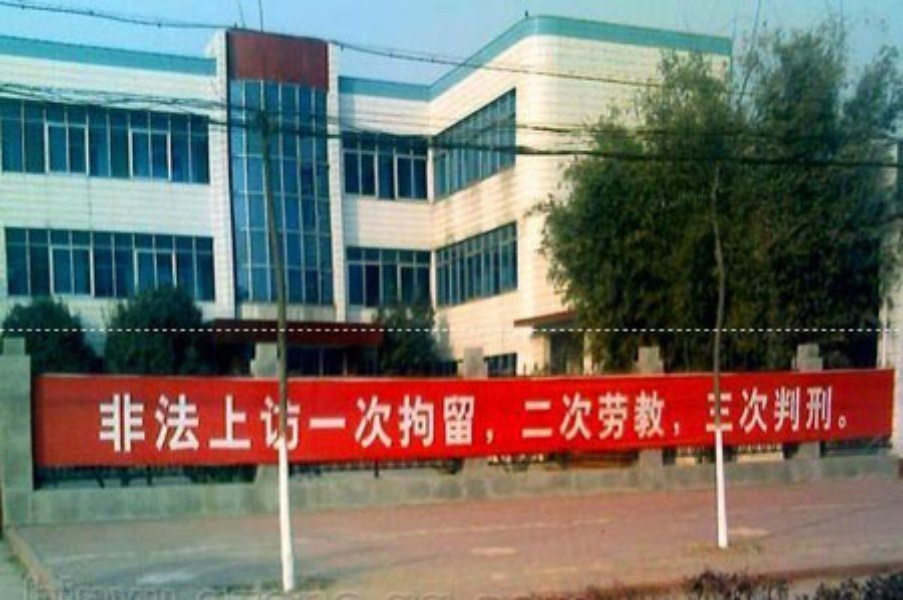text: (113, 386, 128, 458), (129, 386, 144, 458), (145, 386, 160, 458), (161, 386, 176, 458), (177, 386, 192, 458), (193, 386, 208, 458), (209, 386, 224, 458), (225, 386, 240, 458), (241, 386, 256, 458), (257, 386, 272, 458), (273, 386, 288, 458), (289, 386, 304, 458), (305, 386, 320, 458), (321, 386, 336, 458), (337, 386, 352, 458), (353, 386, 368, 458), (369, 386, 384, 458), (385, 386, 400, 458), (401, 386, 416, 458), (417, 386, 432, 458), (433, 386, 448, 458), (449, 386, 464, 458), (465, 386, 480, 458), (481, 386, 496, 458), (497, 386, 512, 458), (513, 386, 528, 458), (529, 386, 544, 458), (545, 386, 560, 458), (561, 386, 576, 458), (577, 386, 592, 458), (593, 386, 608, 458), (609, 386, 624, 458), (625, 386, 640, 458), (641, 386, 656, 458), (657, 386, 672, 458), (673, 386, 688, 458), (689, 386, 704, 458), (705, 386, 720, 458), (721, 386, 736, 458), (737, 386, 752, 458), (753, 386, 768, 458), (769, 386, 784, 458), (785, 386, 800, 458), (801, 386, 816, 458), (817, 386, 832, 458), (833, 386, 848, 458), (99, 386, 112, 458), (849, 386, 853, 458)
